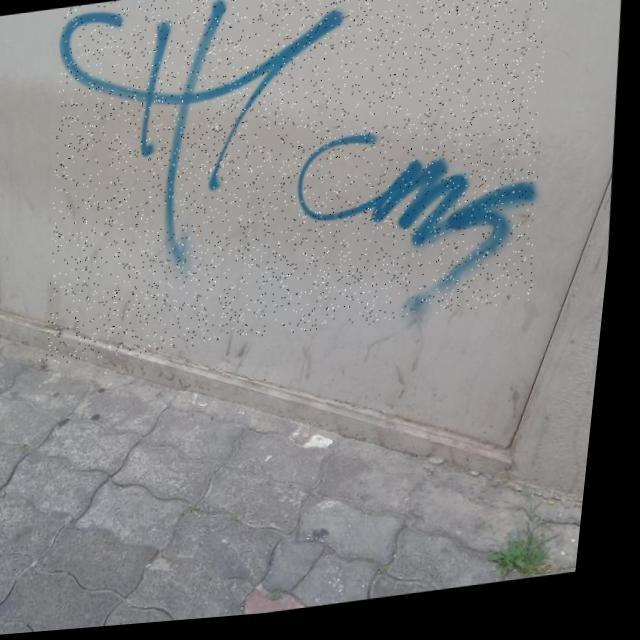-: (34, 0, 567, 368)
